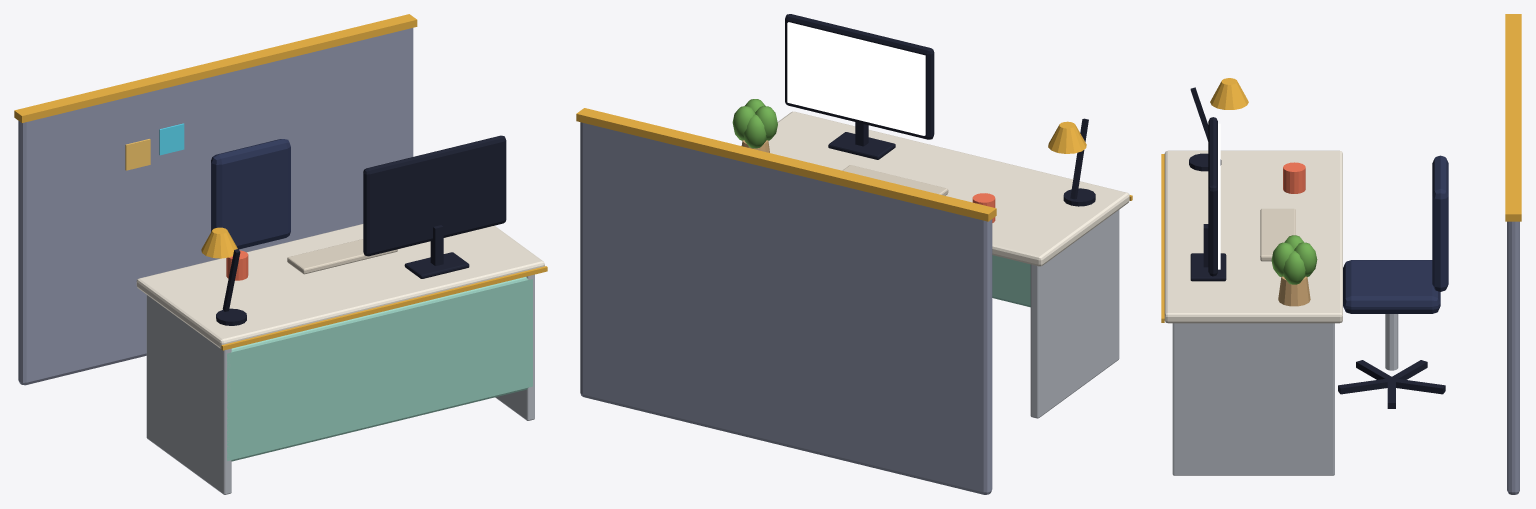
The model's file is office_desk.glb.
The picture shows the model from 3 angles, left to right: view 1: azimuth 30°, elevation 25°; view 2: azimuth 150°, elevation 25°; view 3: azimuth 270°, elevation 25°; orthographic projection. The views are drawn at different scales.
Parts seen in each view (by area): view 1: partition, panel, top, monBack, leg-1.12, back, partTrim, edge, kb, leg1.12, foot, lampHead (+2 smaller); view 2: partition, top, leg-1.12, screen, partTrim, monBack, panel, foot, lampHead, kb; view 3: leg1.12, top, seat, partition, partTrim, back, monBack, kb, lampHead, stem, pot, foot (+8 smaller).
Boxes of the visible parts, bbox=[...] form: partition: bbox=[18, 28, 413, 385]; panel: bbox=[227, 277, 532, 461]; top: bbox=[136, 224, 544, 348]; monBack: bbox=[363, 135, 506, 256]; leg-1.12: bbox=[146, 295, 231, 494]; back: bbox=[211, 139, 290, 249]; partTrim: bbox=[14, 14, 417, 122]; edge: bbox=[221, 266, 547, 350]; kb: bbox=[287, 239, 397, 274]; leg1.12: bbox=[495, 274, 534, 420]; foot: bbox=[404, 252, 469, 278]; lampHead: bbox=[201, 227, 237, 258]; partition: bbox=[580, 122, 992, 494]; top: bbox=[768, 111, 1129, 266]; leg-1.12: bbox=[1030, 210, 1119, 418]; screen: bbox=[787, 22, 925, 135]; partTrim: bbox=[576, 108, 996, 221]; monBack: bbox=[785, 14, 934, 139]; panel: bbox=[992, 255, 1030, 307]; foot: bbox=[828, 132, 895, 159]; lampHead: bbox=[1048, 121, 1086, 153]; kb: bbox=[842, 165, 948, 195]; leg1.12: bbox=[1172, 323, 1334, 475]; top: bbox=[1164, 150, 1342, 323]; seat: bbox=[1343, 260, 1440, 313]; partition: bbox=[1507, 221, 1519, 494]; partTrim: bbox=[1505, 14, 1521, 221]; back: bbox=[1432, 155, 1448, 291]; monBack: bbox=[1208, 117, 1217, 276]; kb: bbox=[1260, 208, 1295, 261]; lampHead: bbox=[1210, 78, 1248, 109]; stem: bbox=[1385, 314, 1398, 370]; pot: bbox=[1278, 276, 1310, 306]; foot: bbox=[1190, 253, 1226, 281].
Size of the model in its own units: 2.92 by 1.93 by 2.22.
